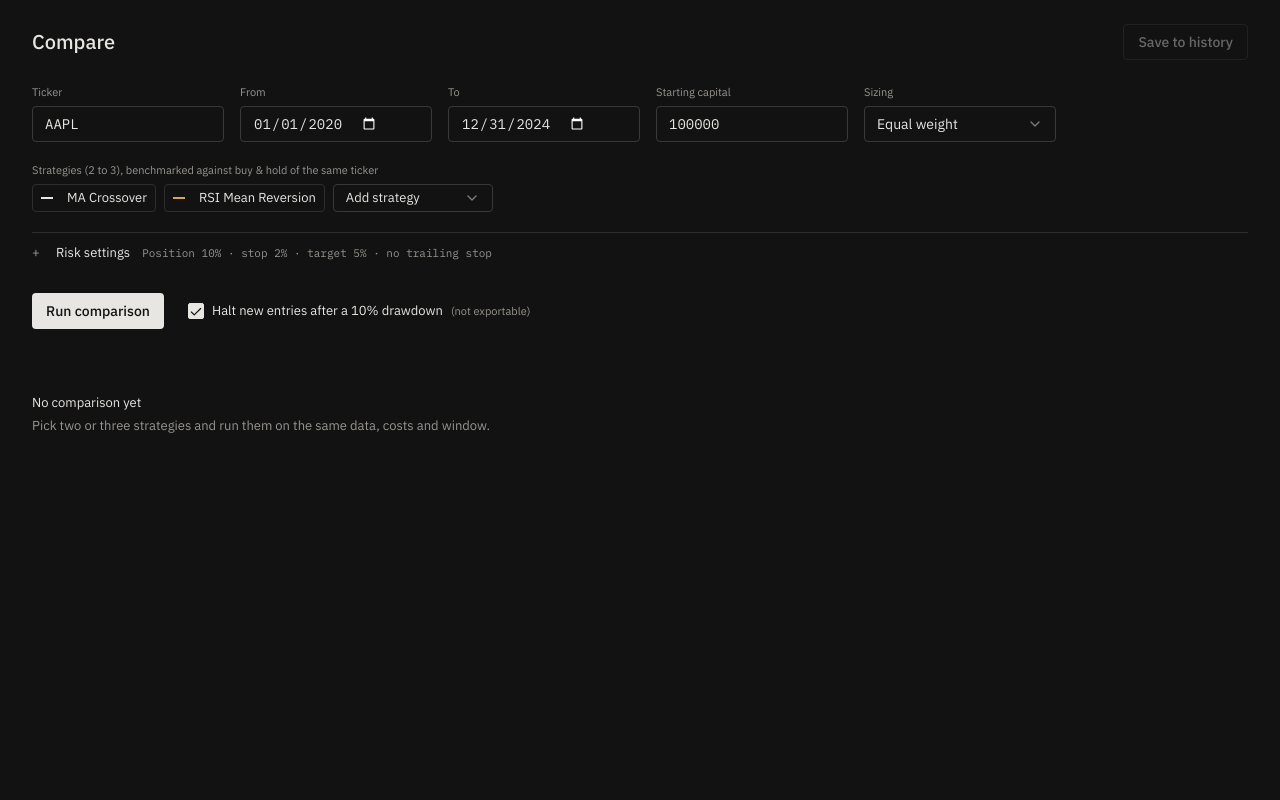
Test case: Compare run settings › sends the Backtest defaults and lists them above the results
Click the button "Run comparison": point(98, 310) [32,292,164,328]
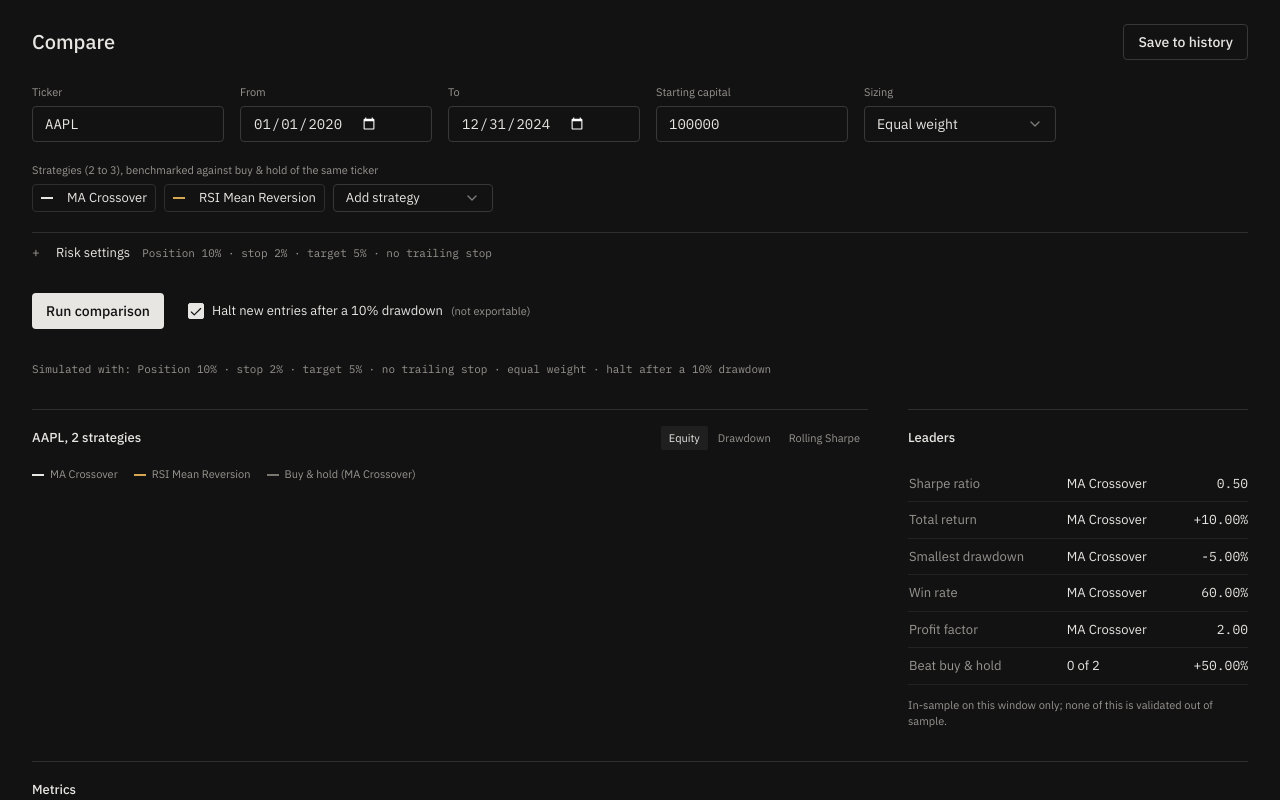
Expected: the text "Simulated with: Position 10% · stop 2% · target 5% · no trailing stop · equal weight · halt after a 10% drawdown" is shown, [32,362,771,376]
